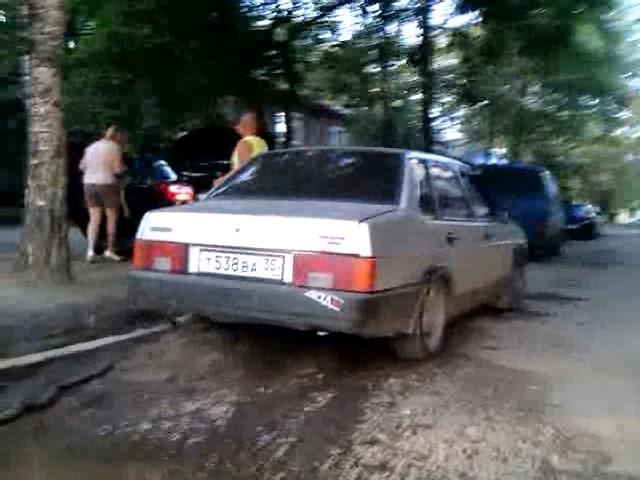car license plate: (195, 247, 290, 285)
